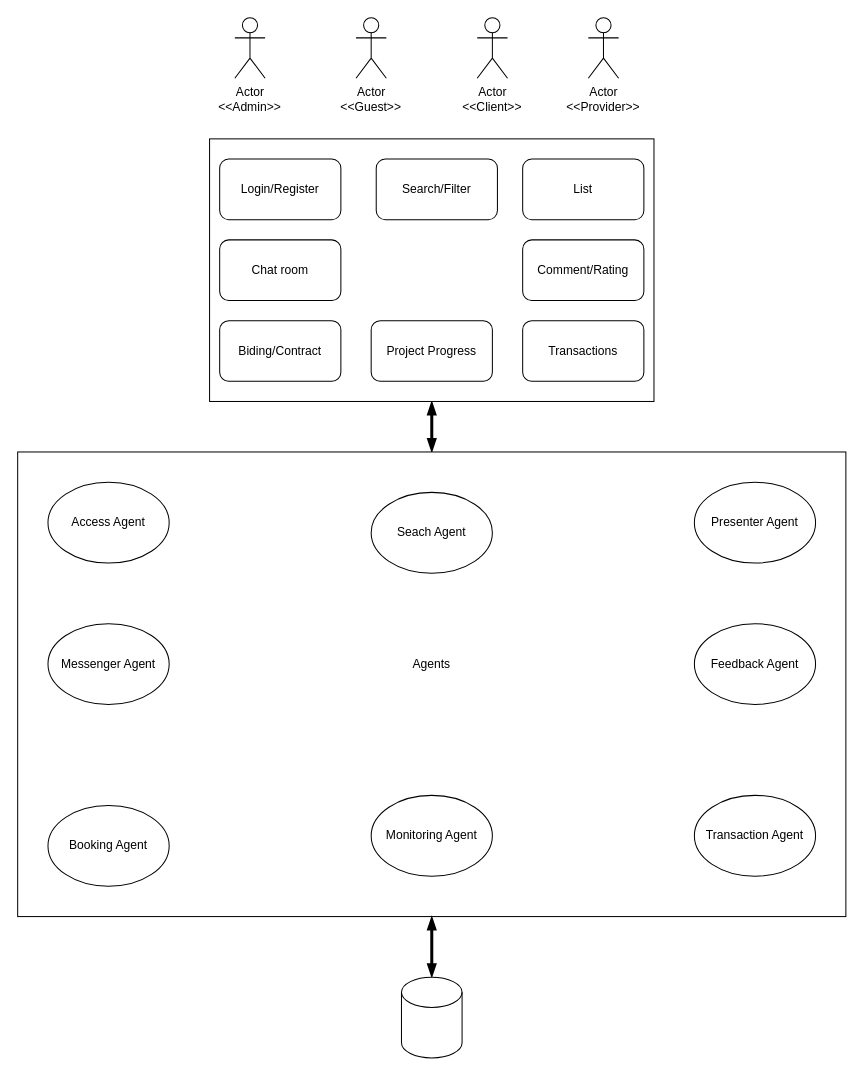
Image size: 864x1076. Some labels were removed from this diagram. The box of each missing label's shape, as (x1, y1, x2, y2) in pixels:
DB: (400, 976, 462, 1058)
GUI: (209, 138, 654, 401)
